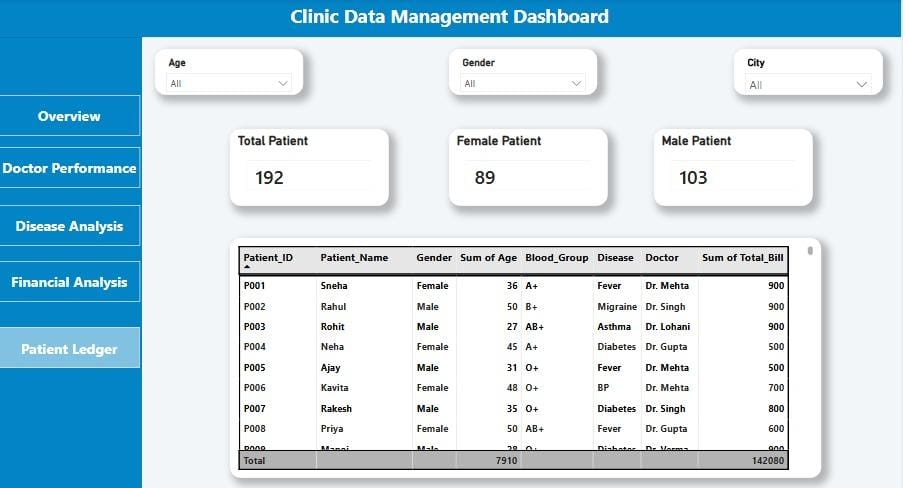

Layout of this report page (visuals, bound fields, positions):
{"tool":"powerbi","page":{"name":"Patient Ledger","canvas":[1280,720],"ordinal":4},"visuals":[{"type":"textbox","box":[0,0,1280,53.8],"z":0},{"type":"shape","box":[0,53.3,204.5,666.7],"z":1000},{"type":"slicer","fields":{"Values":["Clinic_Management_Data(Cleaned_Data) (2).Age"]},"box":[223.2,70.6,210.2,64.8],"z":2000},{"type":"slicer","fields":{"Values":["Clinic_Management_Data(Cleaned_Data) (2).Gender"]},"box":[639.2,70.9,209.8,65.2],"z":3000},{"type":"slicer","fields":{"Values":["Clinic_Management_Data(Cleaned_Data) (2).City"]},"box":[1043.1,70.9,211.2,65.2],"z":4000},{"type":"actionButton","box":[0,135.4,201.6,57.6],"z":5000},{"type":"actionButton","box":[0,210.2,201.6,57.6],"z":6000},{"type":"actionButton","box":[0,292.3,201.6,57.6],"z":7000},{"type":"actionButton","box":[0,371.5,201.6,57.6],"z":8000},{"type":"tableEx","fields":{"Values":["Clinic_Management_Data(Cleaned_Data) (2).Patient_ID","Clinic_Management_Data(Cleaned_Data) (2).Patient_Name","Clinic_Management_Data(Cleaned_Data) (2).Gender","Sum(Clinic_Management_Data(Cleaned_Data) (2).Age)","Clinic_Management_Data(Cleaned_Data) (2).Blood_Group","Clinic_Management_Data(Cleaned_Data) (2).Disease","Clinic_Management_Data(Cleaned_Data) (2).Doctor","Sum(Clinic_Management_Data(Cleaned_Data) (2).Total_Bill)"]},"box":[347.2,399.7,820.6,255.1],"z":9000},{"type":"actionButton","box":[0,464.9,201.3,58.1],"z":10000},{"type":"cardVisual","title":"Total Patient","fields":{"Data":["CountNonNull(Clinic_Management_Data(Cleaned_Data) (2).Patient_ID)"]},"box":[328.8,184.3,225.4,109.1],"z":11000},{"type":"cardVisual","title":"Female Patient","fields":{"Data":["CountNonNull(Clinic_Management_Data(Cleaned_Data) (2).Patient_ID)"]},"box":[639.2,184.3,225.4,109.1],"z":12000},{"type":"cardVisual","title":"Male Patient","fields":{"Data":["CountNonNull(Clinic_Management_Data(Cleaned_Data) (2).Patient_ID)"]},"box":[929.8,184.3,225.4,109.1],"z":13000}]}

Visuals, with their boxes on the page's 1280x720 design canvas (x1, y1, x2, y2). These are canvas units, not pixel positions in the 903x488 screenshot, which may show the page scaled, cropped or inside an application window:
textbox: box=[0, 0, 1280, 54]
shape: box=[0, 53, 204, 720]
slicer - Clinic_Management_Data(Cleaned_Data) (2).Age: box=[223, 71, 433, 135]
slicer - Clinic_Management_Data(Cleaned_Data) (2).Gender: box=[639, 71, 849, 136]
slicer - Clinic_Management_Data(Cleaned_Data) (2).City: box=[1043, 71, 1254, 136]
actionButton: box=[0, 135, 202, 193]
actionButton: box=[0, 210, 202, 268]
actionButton: box=[0, 292, 202, 350]
actionButton: box=[0, 372, 202, 429]
tableEx - Clinic_Management_Data(Cleaned_Data) (2).Patient_ID x Clinic_Management_Data(Cleaned_Data) (2).Patient_Name: box=[347, 400, 1168, 655]
actionButton: box=[0, 465, 201, 523]
"Total Patient" cardVisual: box=[329, 184, 554, 293]
"Female Patient" cardVisual: box=[639, 184, 865, 293]
"Male Patient" cardVisual: box=[930, 184, 1155, 293]
